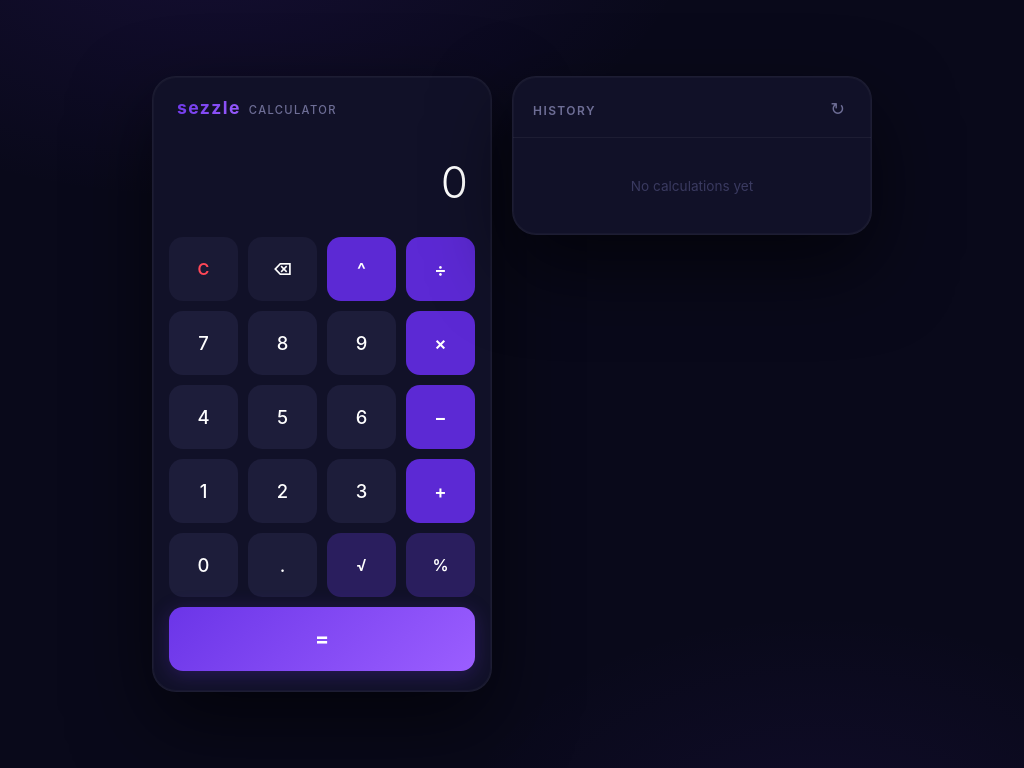
Test: Calculator — interactions › updates display when digit buttons are clicked
Click the button "4" at coordinates (204, 417), box [169,385,238,449]
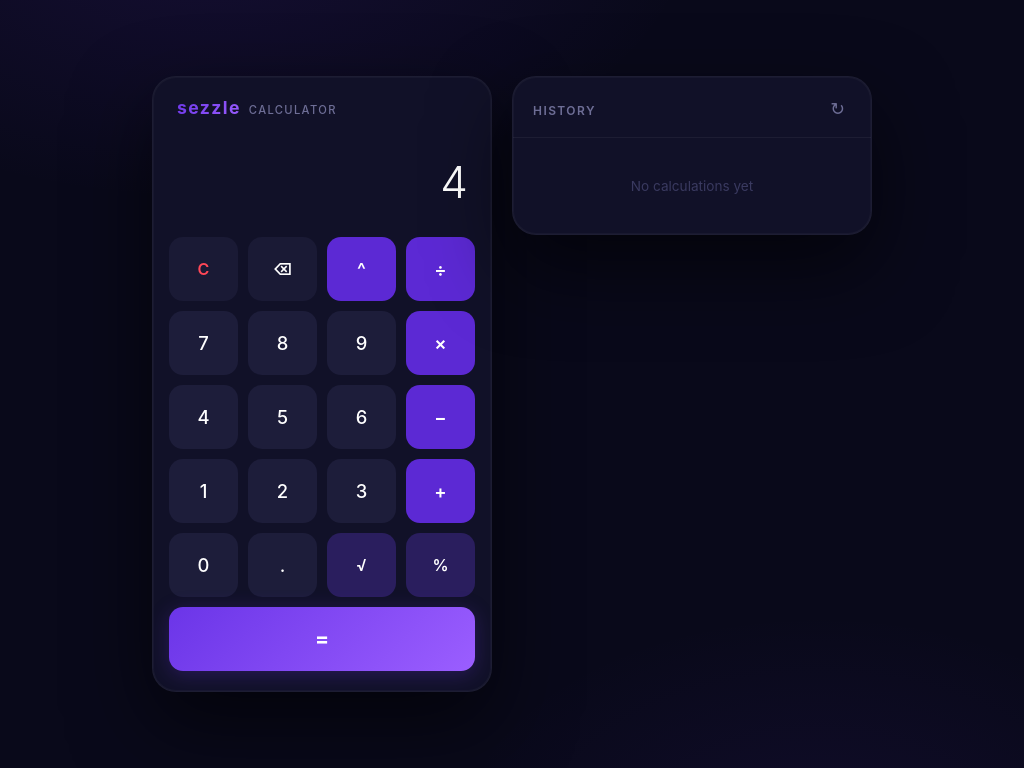
Click the button "2" at coordinates (282, 491), box [248,459,317,523]
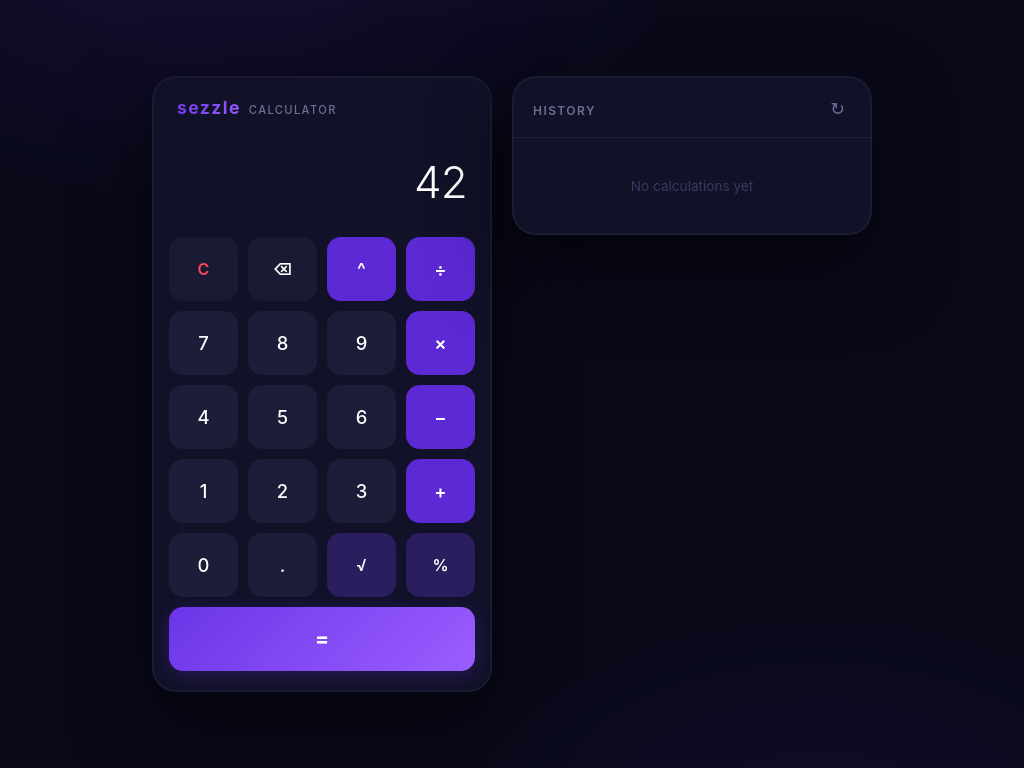
Result: the text with test id "display-value" reads "42" at [414,155,467,209]
